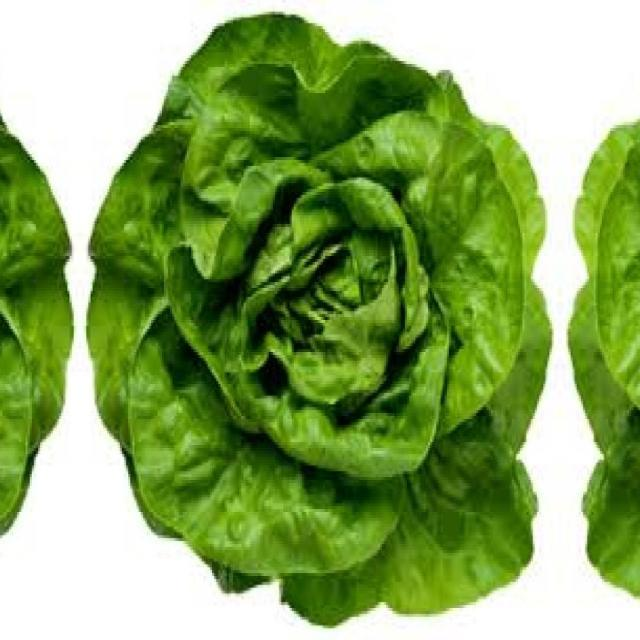healthy: (83, 6, 559, 632), (561, 6, 640, 632), (0, 6, 77, 632)
